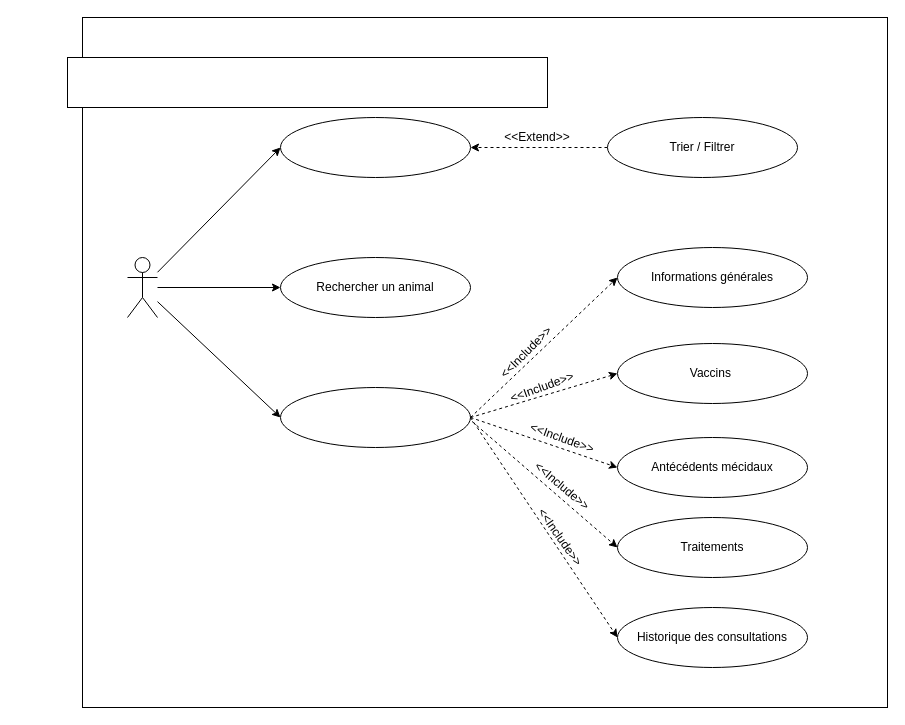
This 905x725 diagram has some shape labels left out. The centre of each missing label's shape, as x and y in pixels:
"Consulter liste animaux" belongs at point 375,147.
"Ouvrir le carnet de santé" belongs at point 375,417.
"USE CASE - PATTES & CIE" belongs at point 307,82.
"Vétérinaire" belongs at point 142,287.
